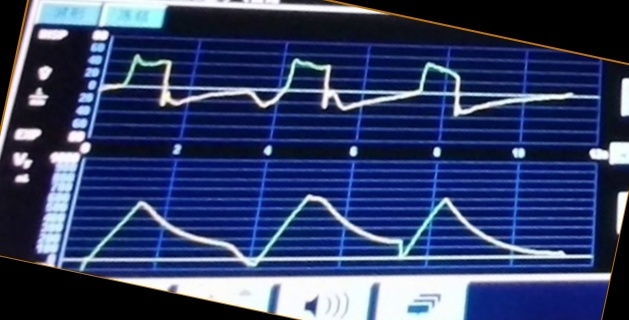Premature_cycling Flow: (111, 52, 572, 141)
Premature_cycling Volume: (77, 191, 569, 271)
